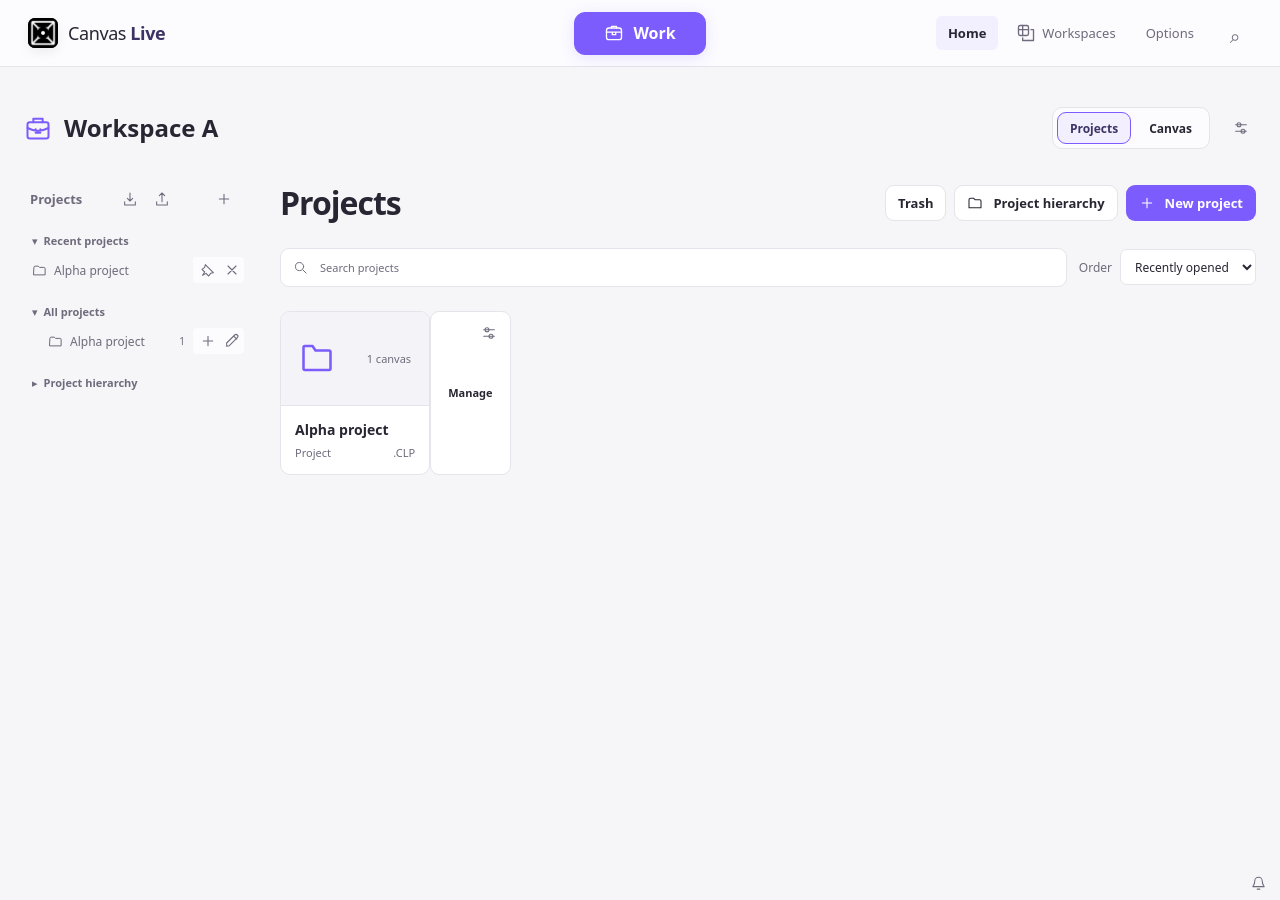
Test case: workspace contents and appearance boundaries › creates a new workspace empty, retains existing library contents, and opens it at Home
Expected: the button with aria-label "Browse project Alpha project" is shown, [280,311,430,475]
Click the button "Workspaces".
click(1066, 33)  # box [1004,16,1128,50]
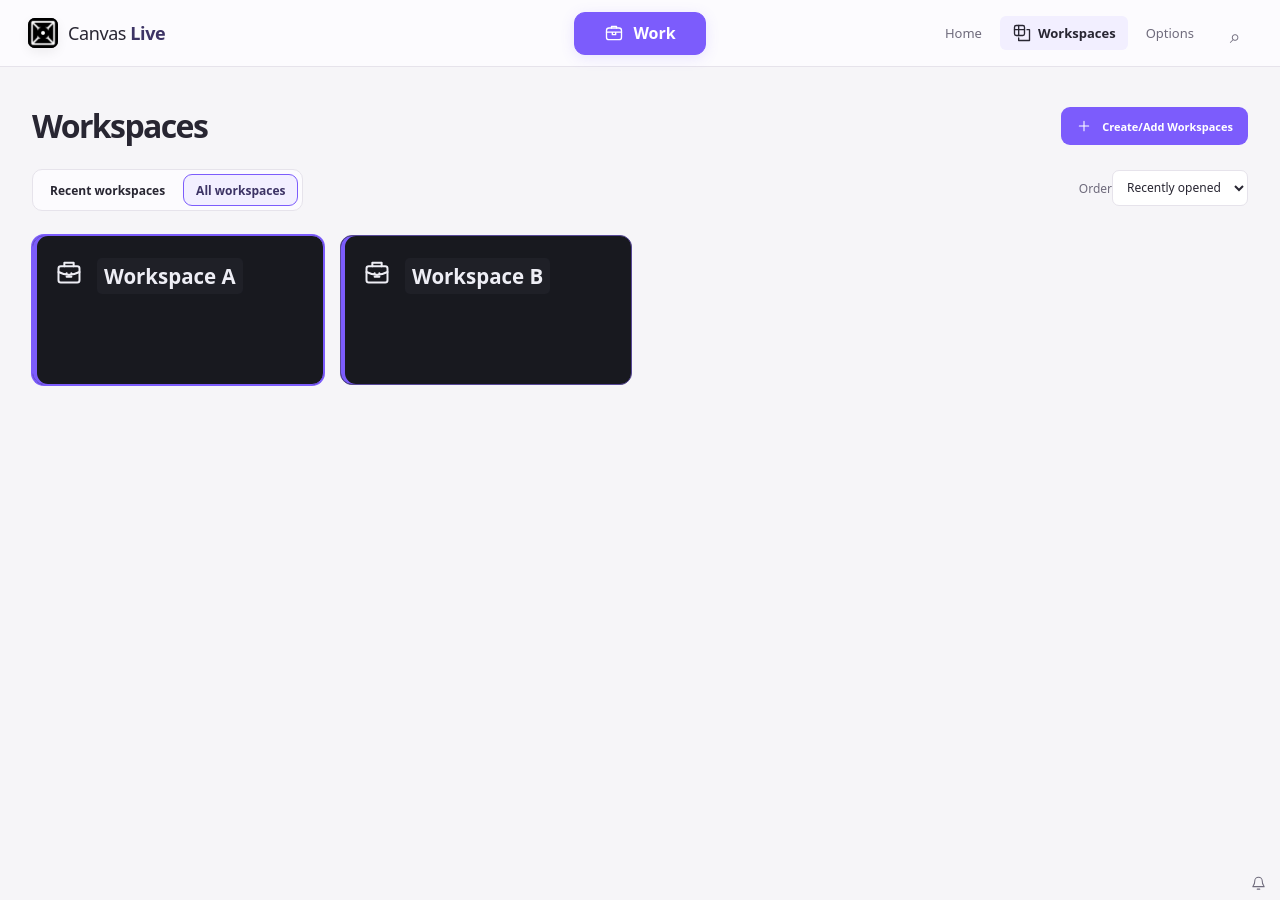
Click the button "Create/Add Workspaces".
click(1155, 126)  # box [1061,107,1248,145]
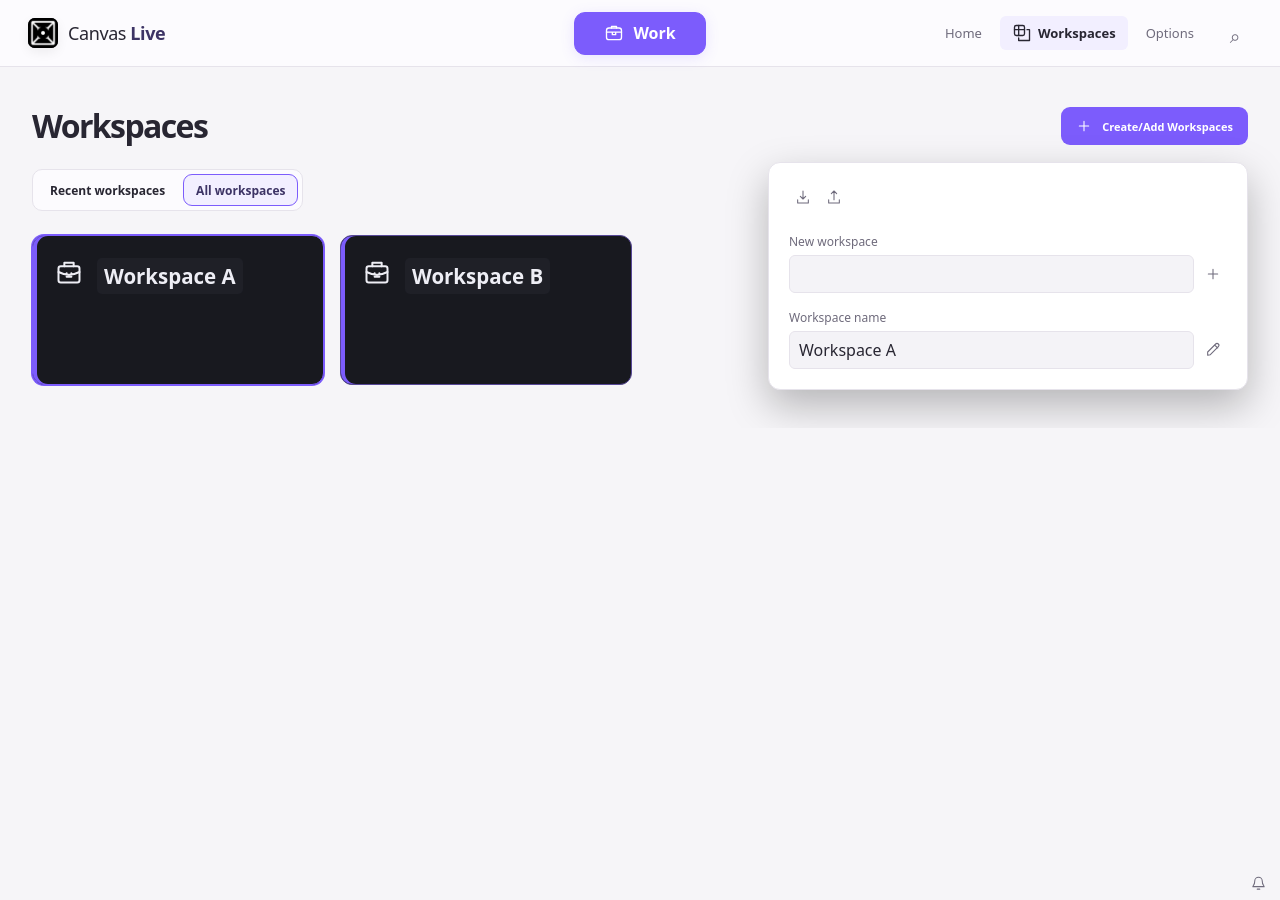
Type "Blank studio" into the field labelled "New workspace".
click(992, 274); type("Blank studio")  # box [789,255,1194,293]
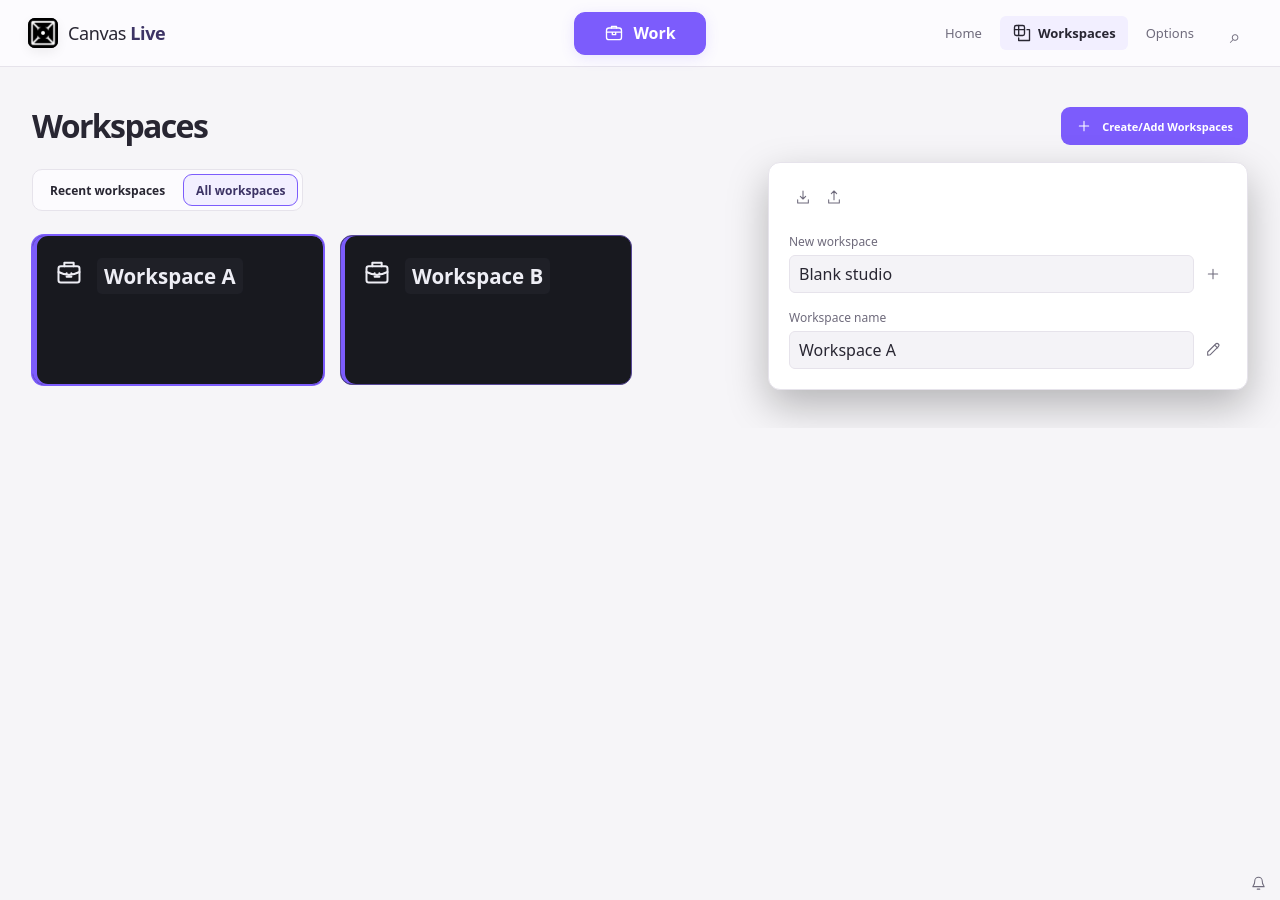
Click the button named "Create workspace".
click(1213, 274)  # box [1198,259,1227,289]
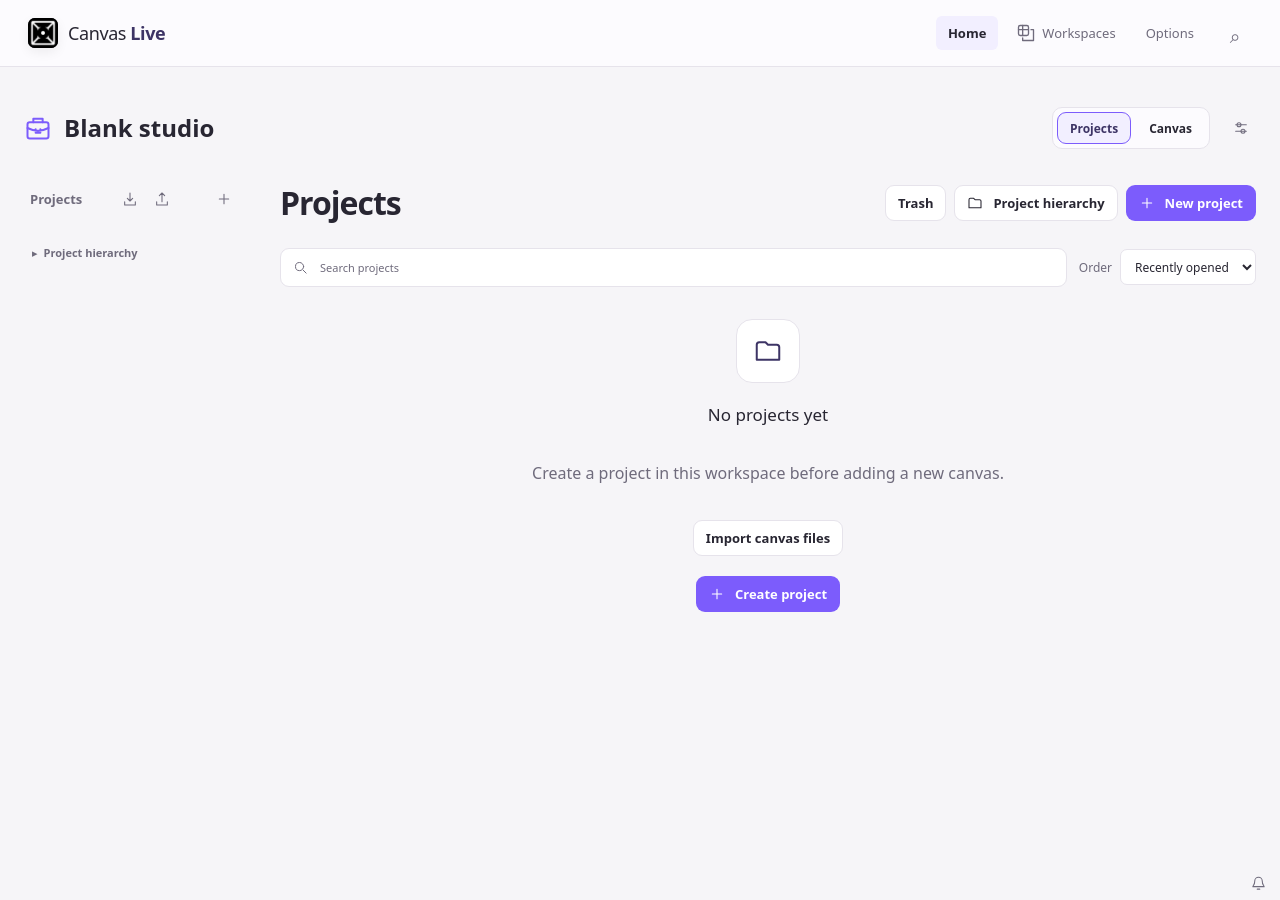
Now the heading "No projects yet" is shown, box [708,403,828,426]
Now the element named "Canvas Live home" is shown
